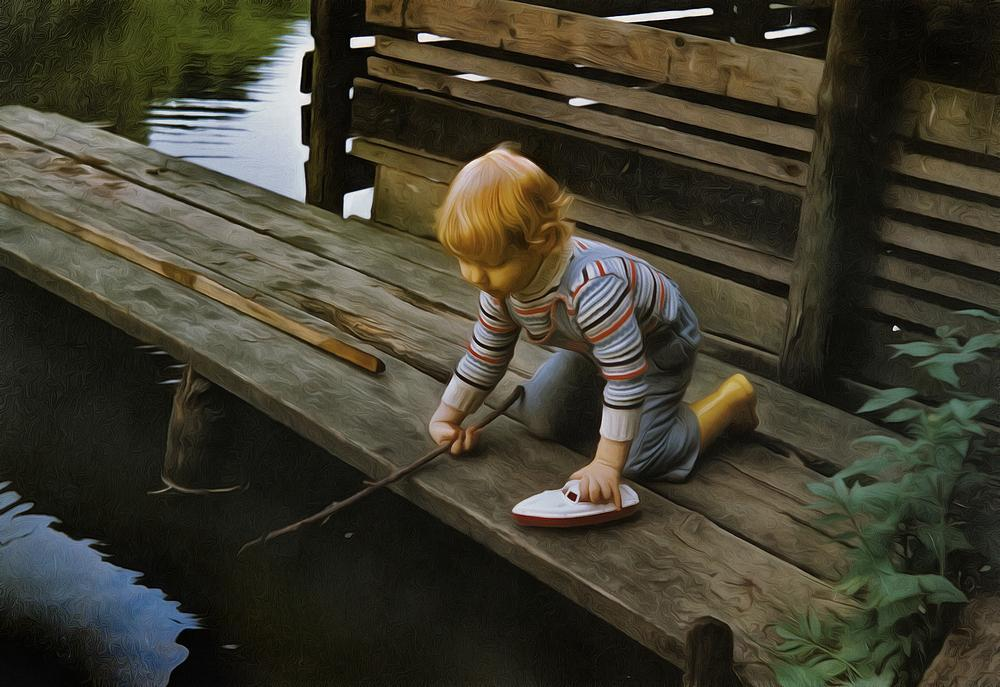child: (402, 142, 777, 494)
